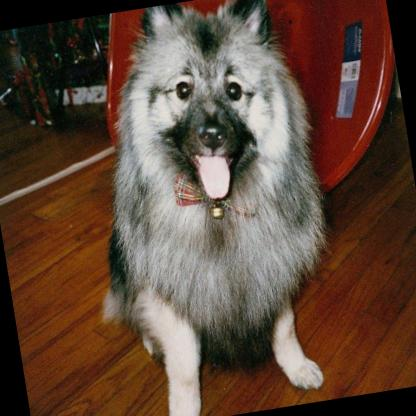keeshond: (53, 0, 352, 416)
